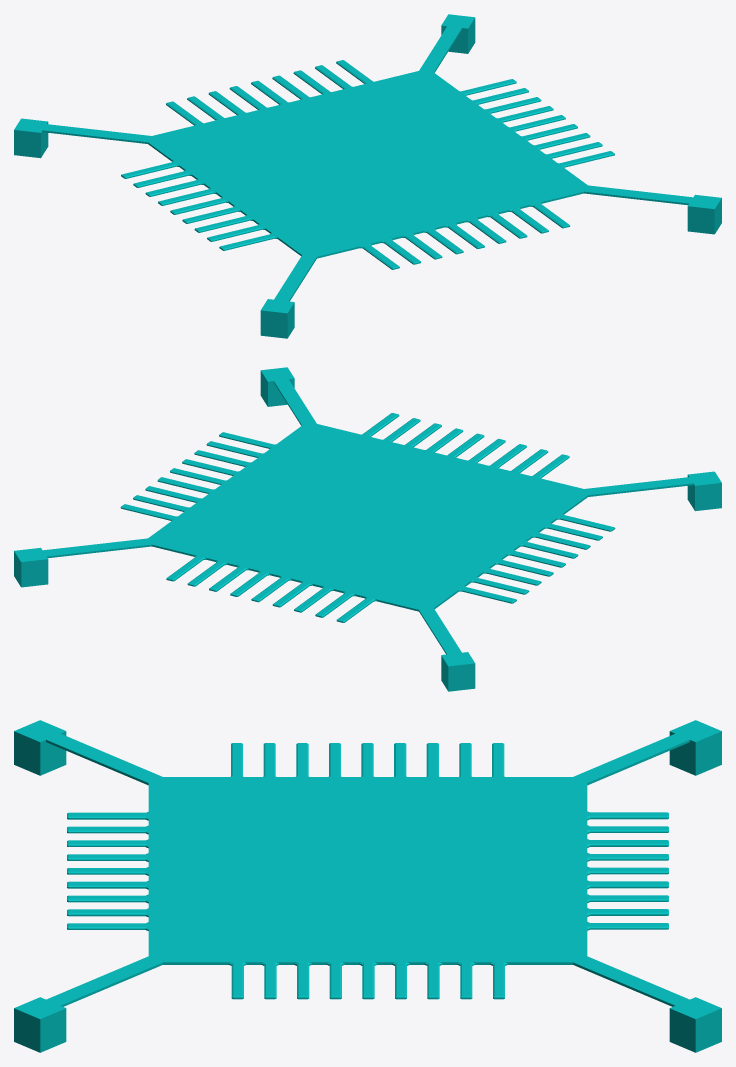
File: base_top_b.fbx
3 renders of one model, top to bottom at view 1: azimuth 30°, elevation 25°; view 2: azimuth 150°, elevation 25°; view 3: azimuth 270°, elevation 25°, orthographic. The views are drawn at different scales.
Parts seen in each view (by area): view 1: top_base; view 2: top_base; view 3: top_base.
Part boxes in pixels (x1=…): top_base: x1=14, y1=14, x2=721, y2=338; top_base: x1=14, y1=367, x2=721, y2=691; top_base: x1=14, y1=720, x2=721, y2=1052.
Bounding box in the file's own units: 5.75 × 0.3012 × 5.75.
